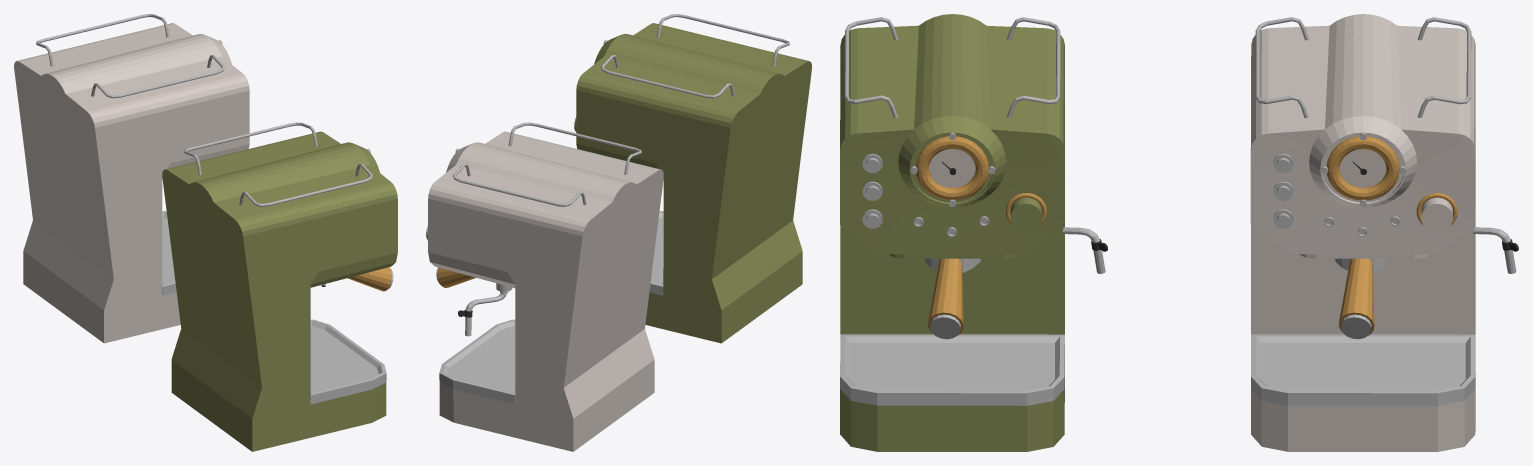
File: Coffee.fbx
The picture shows the model from 3 angles, left to right: view 1: azimuth 30°, elevation 25°; view 2: azimuth 150°, elevation 25°; view 3: azimuth 270°, elevation 25°; orthographic projection. The views are drawn at different scales.
Parts seen in each view (by area): view 1: Green Coffee, White Coffee; view 2: White Coffee, Green Coffee; view 3: White Coffee, Green Coffee.
Part boxes in pixels (x1=…): Green Coffee: x1=162, y1=122, x2=397, y2=451; White Coffee: x1=14, y1=14, x2=249, y2=343; White Coffee: x1=426, y1=122, x2=663, y2=451; Green Coffee: x1=574, y1=14, x2=811, y2=343; White Coffee: x1=1250, y1=14, x2=1518, y2=451; Green Coffee: x1=840, y1=14, x2=1107, y2=451.
Size of the model in its own units: 420 by 530 by 953.
